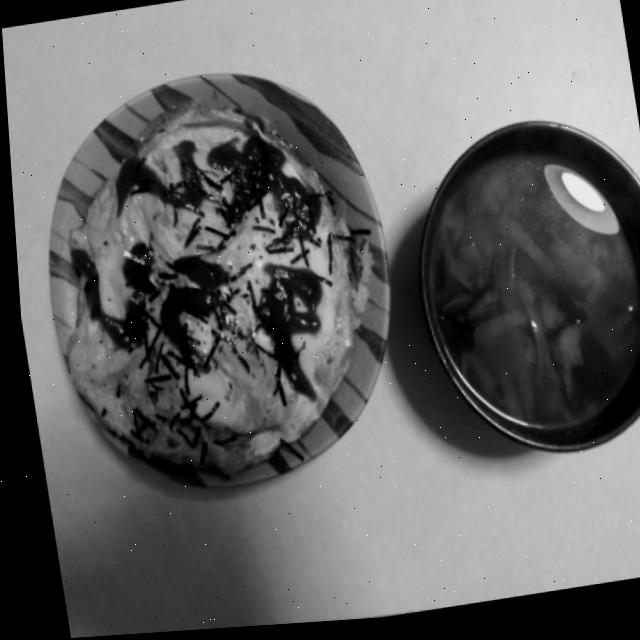汤锅炖物: (393, 105, 640, 471)
鸡蛋料理: (12, 48, 415, 513)
